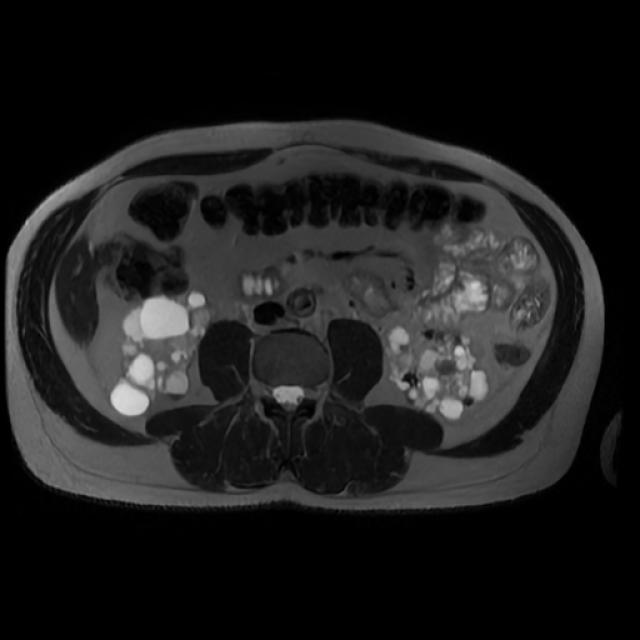sag: (106, 291, 213, 419)
sol: (383, 327, 491, 422)
